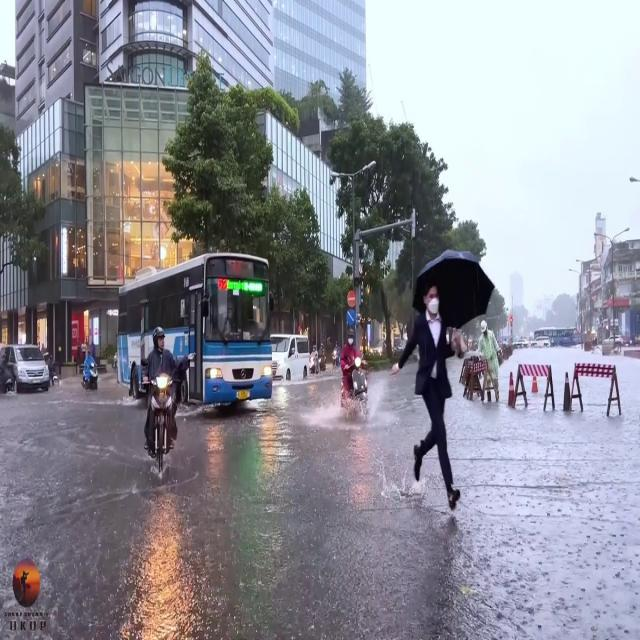bien_vang: (238, 389, 249, 400)
